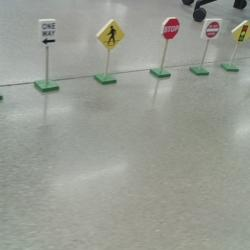do_not_enter: (201, 18, 222, 39)
one_way: (37, 19, 57, 46)
pedestrian_crossing: (97, 19, 125, 50)
stop: (161, 17, 180, 40)
traffic_signal: (231, 20, 250, 44)
